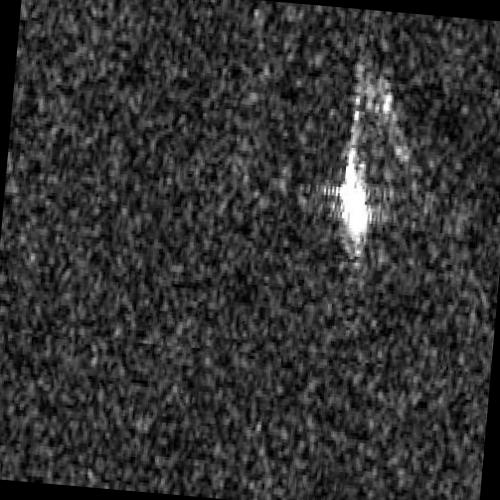ship: (339, 160, 372, 244)
